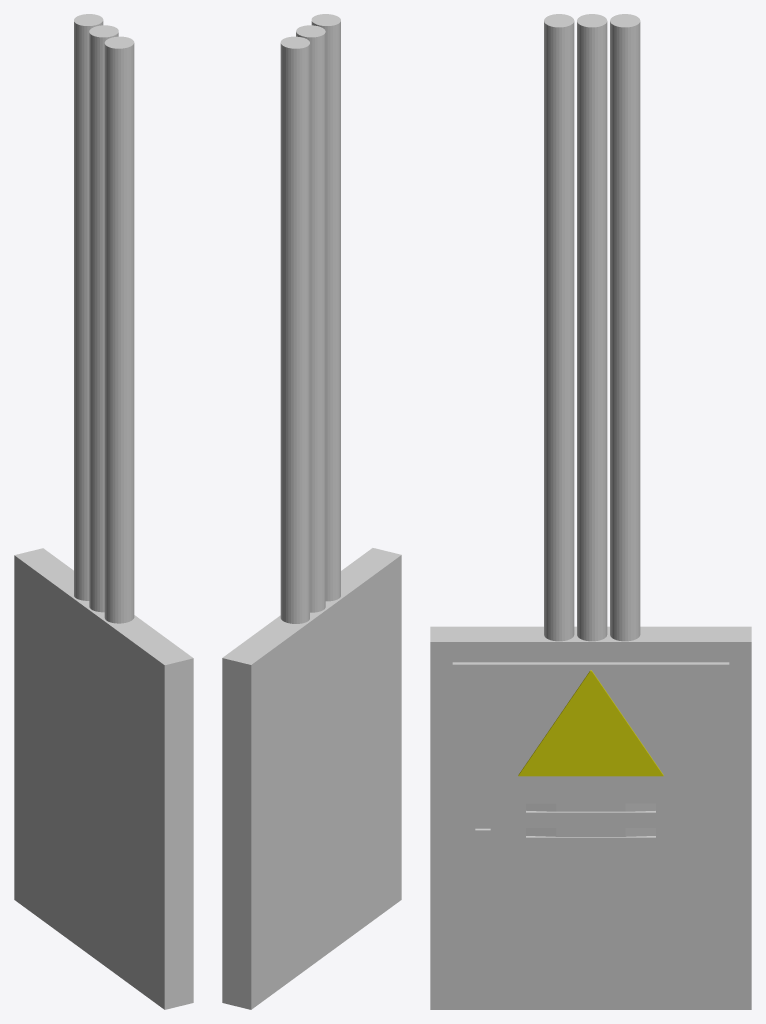
File: BreakerBox.fbx
3 renders of one model, left to right at view 1: azimuth 30°, elevation 25°; view 2: azimuth 150°, elevation 25°; view 3: azimuth 270°, elevation 25°, orthographic. The views are drawn at different scales.
Parts seen in each view (by area): view 1: Cube, Cylinder.001, Cylinder, Cylinder.002; view 2: Cube, Cylinder.002, Cylinder, Cylinder.001; view 3: Cube, Cylinder.002, Cylinder, Cylinder.001, Cube.001.
Boxes of the visible parts, <box> form: Cube: <box>14,548,193,1009</box>; Cylinder.001: <box>104,36,134,623</box>; Cylinder: <box>89,25,118,612</box>; Cylinder.002: <box>74,14,103,600</box>; Cube: <box>222,548,401,1009</box>; Cylinder.002: <box>280,36,309,623</box>; Cylinder: <box>296,25,325,612</box>; Cylinder.001: <box>311,14,340,601</box>; Cube: <box>430,626,751,1009</box>; Cylinder.002: <box>610,14,640,641</box>; Cylinder: <box>577,14,607,641</box>; Cylinder.001: <box>544,14,574,641</box>; Cube.001: <box>518,670,663,776</box>.
Size of the model in its own units: 35.52 by 844 by 250.
